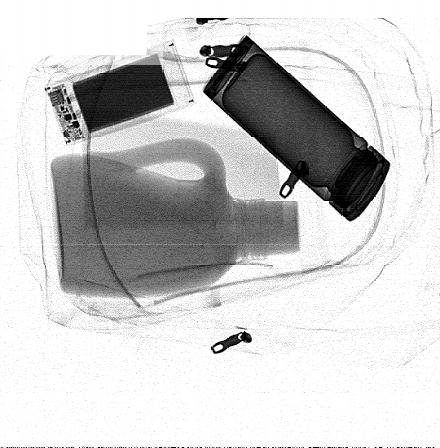Powerbank: (43, 39, 194, 147)
